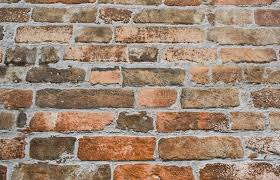brick: (80, 136, 156, 161), (158, 137, 244, 159), (11, 162, 111, 178), (39, 90, 132, 107), (113, 164, 195, 179), (117, 28, 198, 43), (199, 164, 280, 179), (157, 113, 226, 128), (124, 69, 182, 86), (184, 88, 241, 105), (58, 112, 104, 132), (215, 29, 280, 43), (142, 9, 196, 25), (70, 47, 126, 62), (30, 68, 83, 83), (32, 139, 72, 157), (220, 48, 273, 61), (20, 27, 68, 41), (119, 112, 152, 130), (139, 89, 175, 105), (79, 27, 110, 43), (1, 91, 32, 107), (33, 7, 66, 22), (232, 114, 263, 129), (1, 6, 30, 22), (7, 48, 37, 63), (247, 69, 279, 83), (93, 68, 120, 84), (1, 138, 23, 157), (257, 88, 280, 106), (102, 8, 129, 23), (130, 49, 158, 63), (254, 11, 280, 26), (72, 7, 96, 23), (214, 67, 240, 81), (192, 67, 209, 83), (34, 114, 50, 131), (269, 113, 280, 130), (1, 114, 14, 128)
